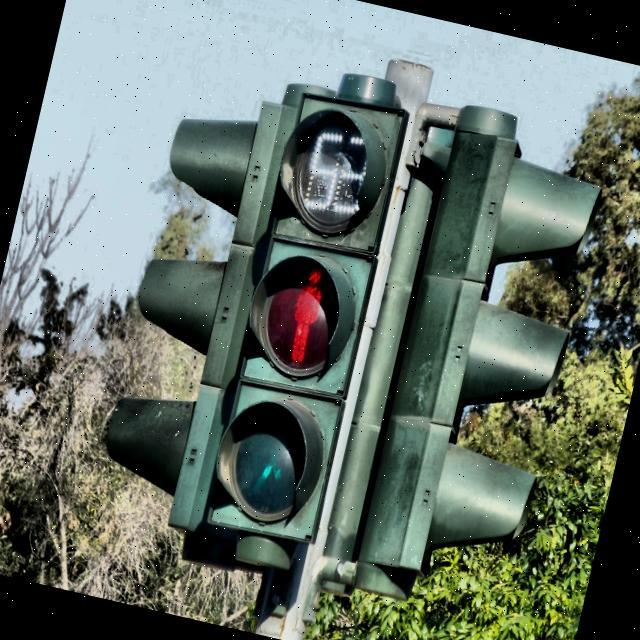red_light: (278, 262, 332, 370)
